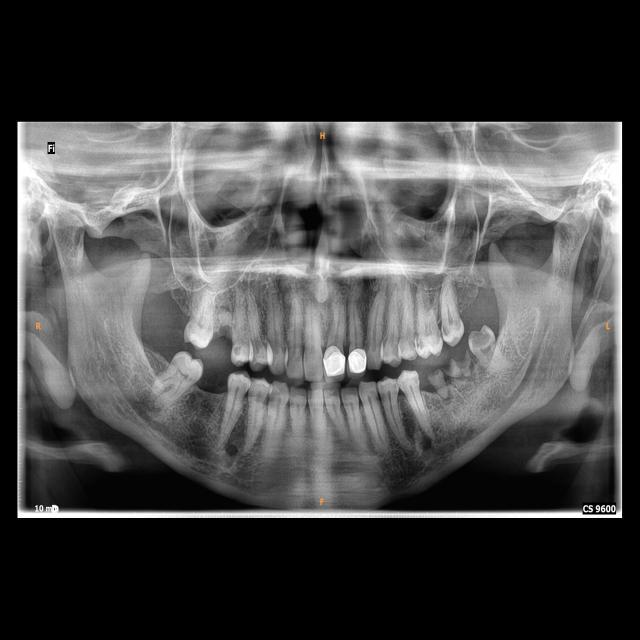dentin-curugu: (473, 328, 493, 351)
kaplama: (322, 342, 347, 375), (346, 346, 368, 372)
kirik: (441, 350, 472, 375), (428, 362, 444, 385)
kok-enfeksiyonu: (414, 430, 441, 456), (219, 434, 247, 459)
